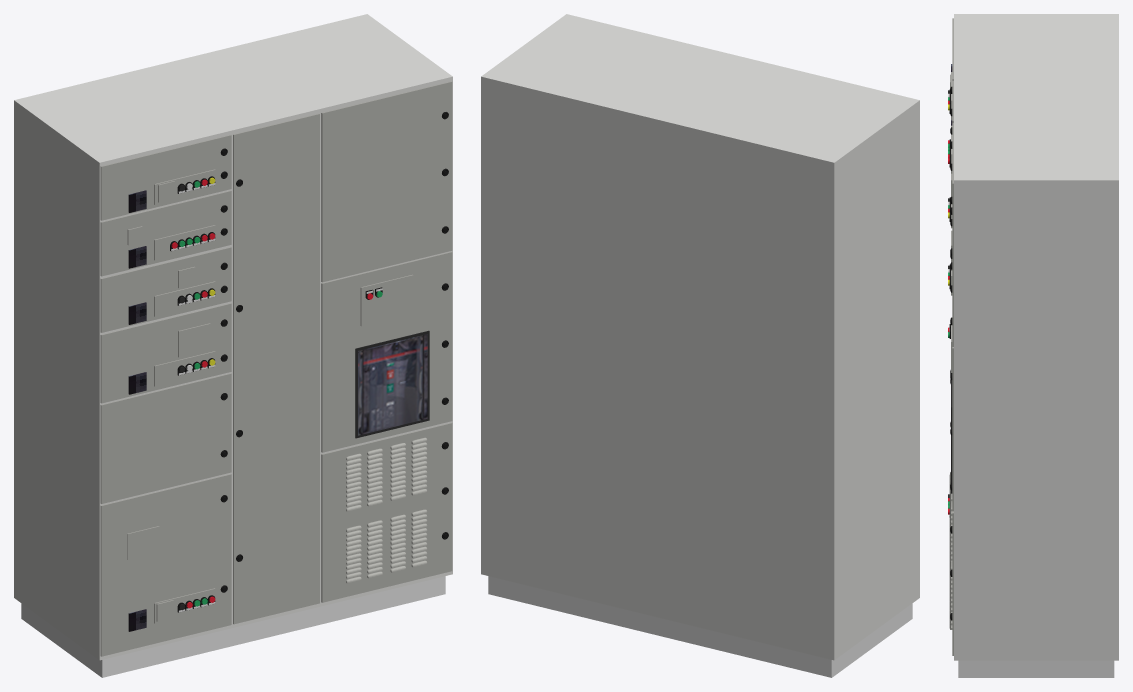
File: mdb_test.gltf
The picture shows the model from 3 angles, left to right: view 1: azimuth 30°, elevation 25°; view 2: azimuth 150°, elevation 25°; view 3: azimuth 270°, elevation 25°; orthographic projection. The views are drawn at different scales.
Visible parts, largest first — view 1: Cube, Cube.001, Cube.008, Cube.007, Cube.010, Cube.009, Cube.006, base_cube, Cube.005, Cube.arrray_01.007, Cube.013, Cube.002 (+13 smaller); view 2: Cube, base_cube; view 3: Cube, base_cube, Cube.arrray_01.007, Cube.008, black_button.006, Cube.009, Cube.010.
Boxes of the visible parts, <box> form: Cube: <box>14,14,452,660</box>; Cube.001: <box>233,113,319,624</box>; Cube.008: <box>321,81,452,282</box>; Cube.007: <box>100,473,231,656</box>; Cube.010: <box>321,422,452,602</box>; Cube.009: <box>321,251,452,452</box>; Cube.006: <box>100,373,231,503</box>; base_cube: <box>21,576,445,677</box>; Cube.005: <box>100,303,231,403</box>; Cube.arrray_01.007: <box>346,437,427,583</box>; Cube.013: <box>358,334,427,435</box>; Cube.002: <box>100,134,231,220</box>; Cube: <box>481,14,919,660</box>; base_cube: <box>488,576,912,677</box>; Cube: <box>954,14,1118,660</box>; base_cube: <box>958,660,1114,677</box>; Cube.arrray_01.007: <box>949,482,952,629</box>; Cube.008: <box>952,122,953,346</box>; black_button.006: <box>950,86,952,620</box>; Cube.009: <box>952,347,953,511</box>; Cube.010: <box>952,511,953,655</box>.
Size of the model in its own units: 4.77 by 6.68 by 2.07.
13 materials, 5 textured.
